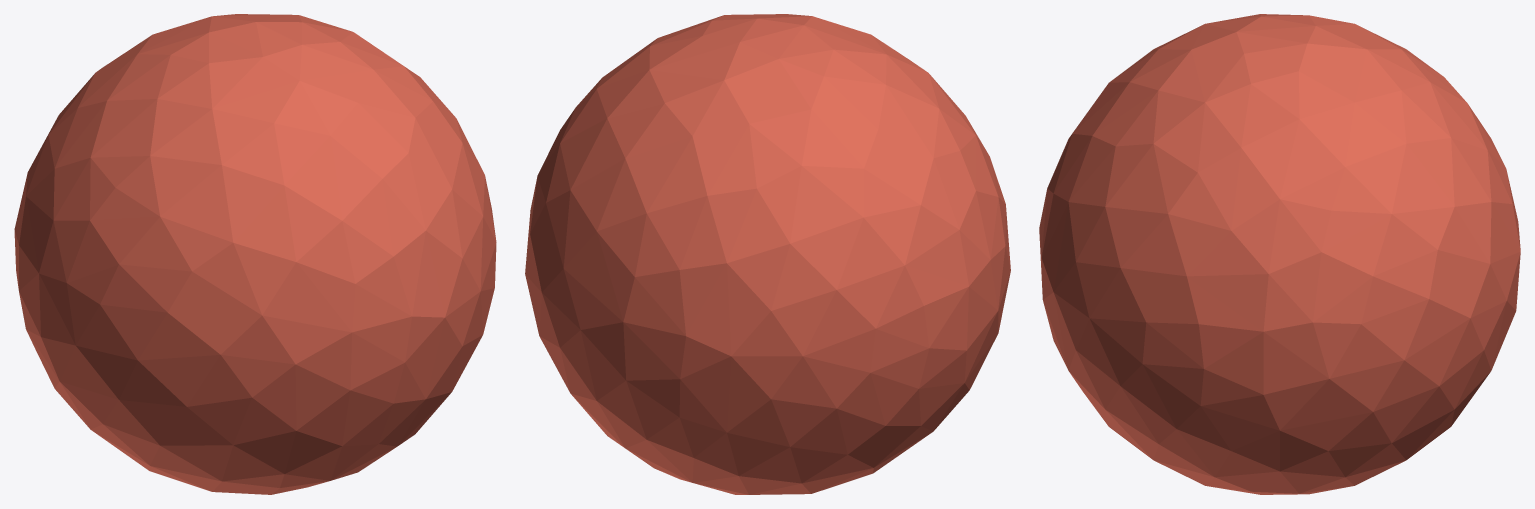
File: hum_12_soccer_kick_props.glb
3 views of the same model, side by side, from view 1: azimuth 30°, elevation 25°; view 2: azimuth 150°, elevation 25°; view 3: azimuth 270°, elevation 25° (orthographic).
Parts seen in each view (by area): view 1: o00; view 2: o00; view 3: o00.
Part boxes in pixels (left/top/right/bottom): o00: left=14, top=14, right=496, bottom=494; o00: left=525, top=14, right=1010, bottom=494; o00: left=1039, top=14, right=1520, bottom=494.
Bounding box in the file's own units: 0.2193 × 0.2193 × 0.2193.
